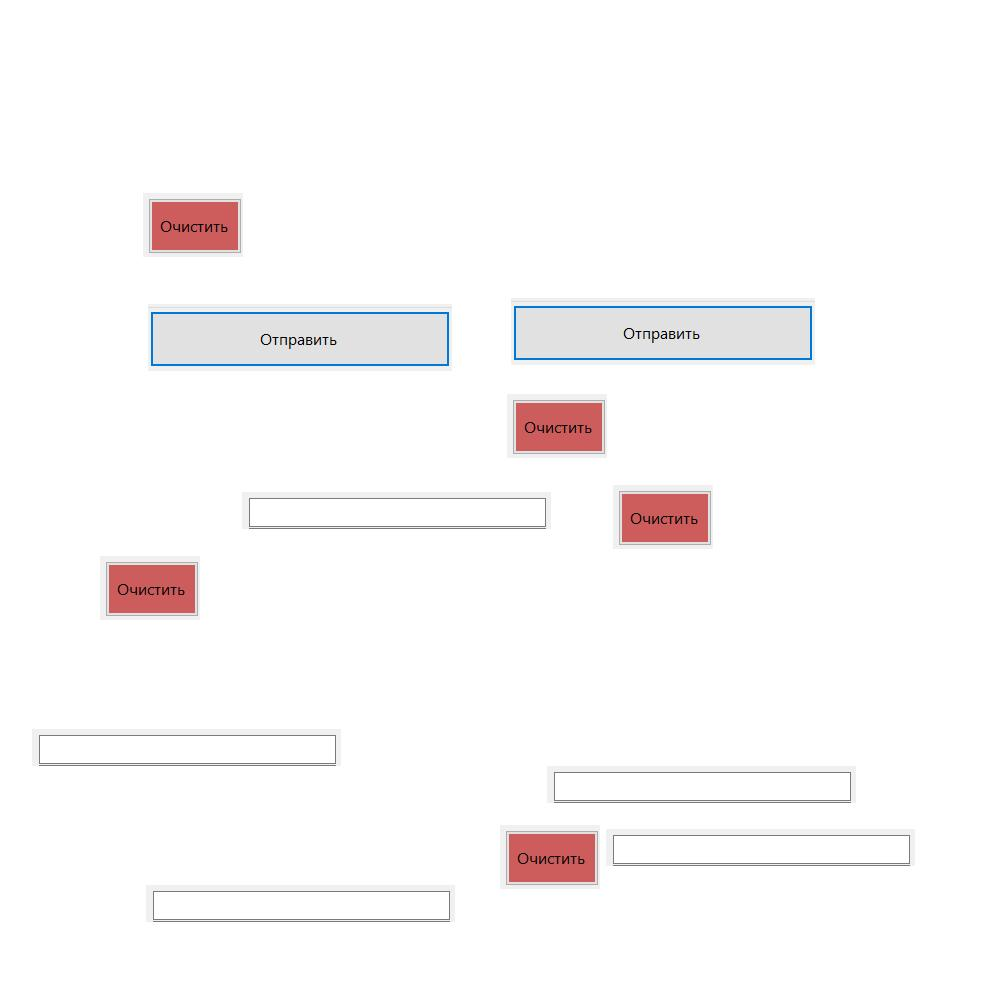Button: (511, 298, 815, 365), (148, 304, 452, 371), (507, 394, 607, 458), (613, 485, 713, 549), (500, 825, 600, 889), (100, 556, 200, 620), (143, 193, 243, 257)
EditText-: (242, 492, 551, 529), (547, 766, 856, 803), (606, 829, 915, 866), (146, 885, 455, 922), (32, 729, 341, 766)
